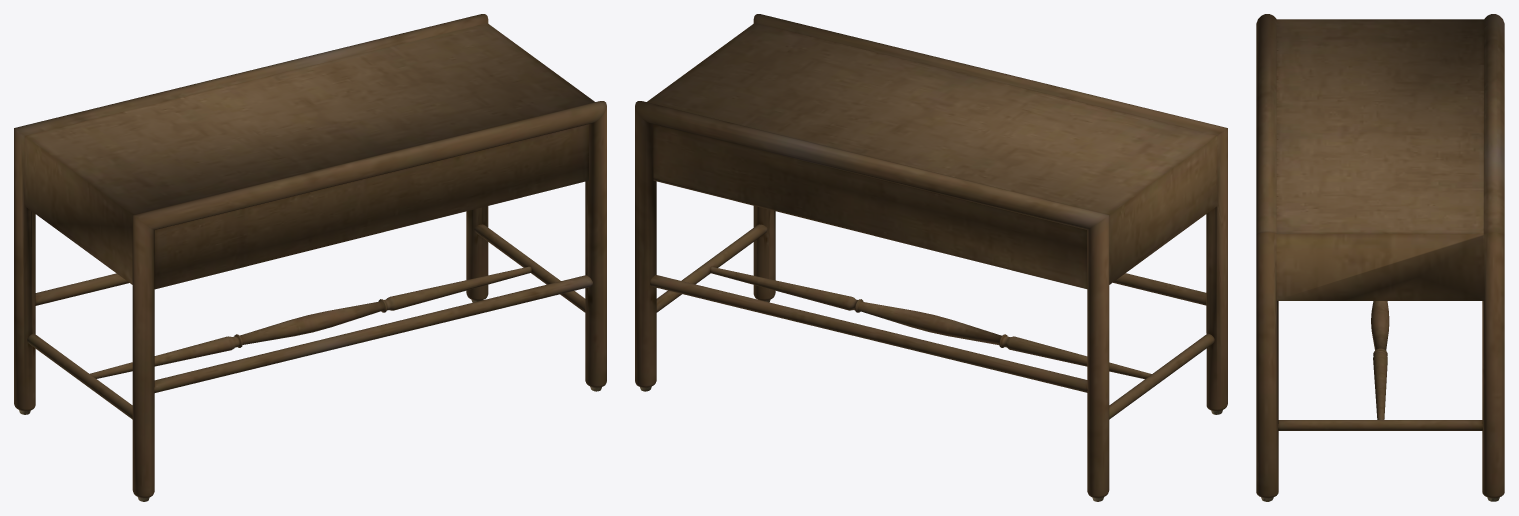
File: table.glb
3 views of the same model, side by side, from view 1: azimuth 30°, elevation 25°; view 2: azimuth 150°, elevation 25°; view 3: azimuth 270°, elevation 25° (orthographic). The views are drawn at different scales.
Visible parts, largest first — view 1: small_wooden_table_01; view 2: small_wooden_table_01; view 3: small_wooden_table_01.
Part boxes in pixels (x1=…): small_wooden_table_01: x1=14, y1=14, x2=606, y2=501; small_wooden_table_01: x1=635, y1=14, x2=1227, y2=501; small_wooden_table_01: x1=1256, y1=14, x2=1504, y2=501.
Bounding box in the file's own units: 0.9162 × 0.5331 × 0.44.
1 material, 1 textured.
